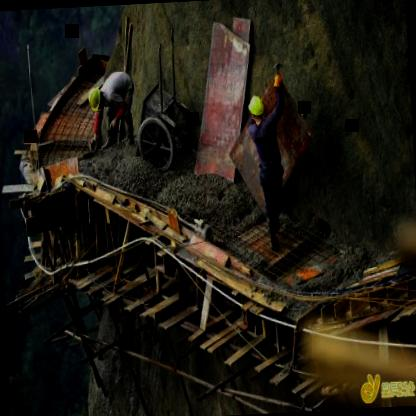helmet: (245, 92, 267, 127), (84, 86, 108, 115)
